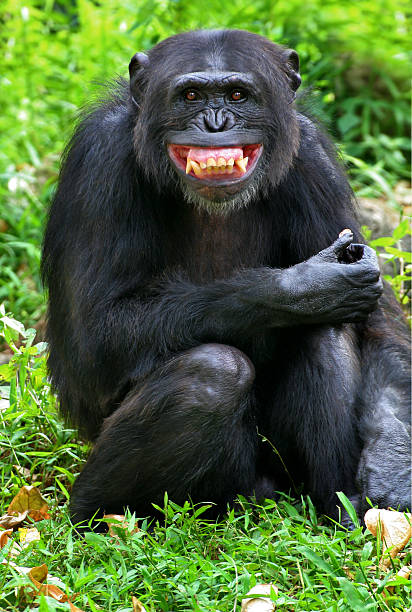chimpanzee: (110, 16, 348, 248)
